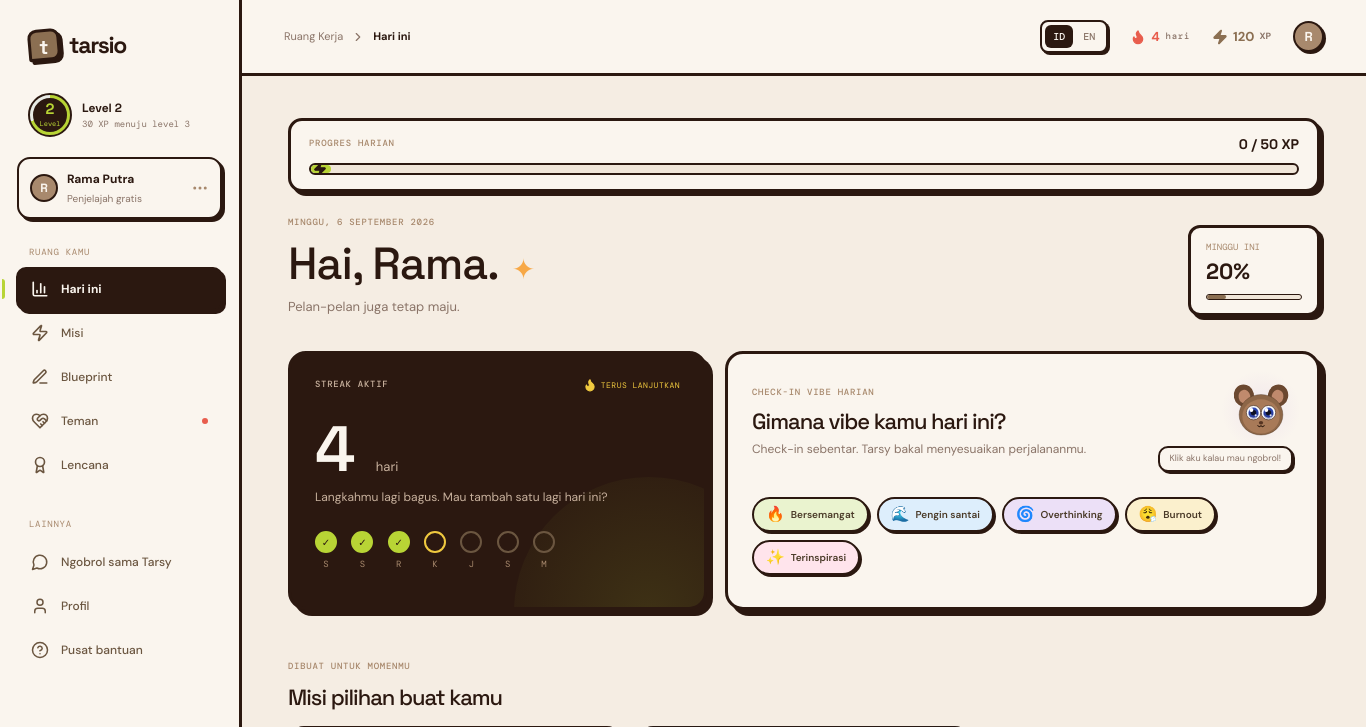
Scenario: Dashboard › shows the referral code (first 8 chars of the user id, upper-cased) in Friends
Expected: the heading "Hai, Rama. ✦" is shown, [288, 240, 534, 286]
Click the button "Teman": click(120, 421) [16, 399, 223, 443]
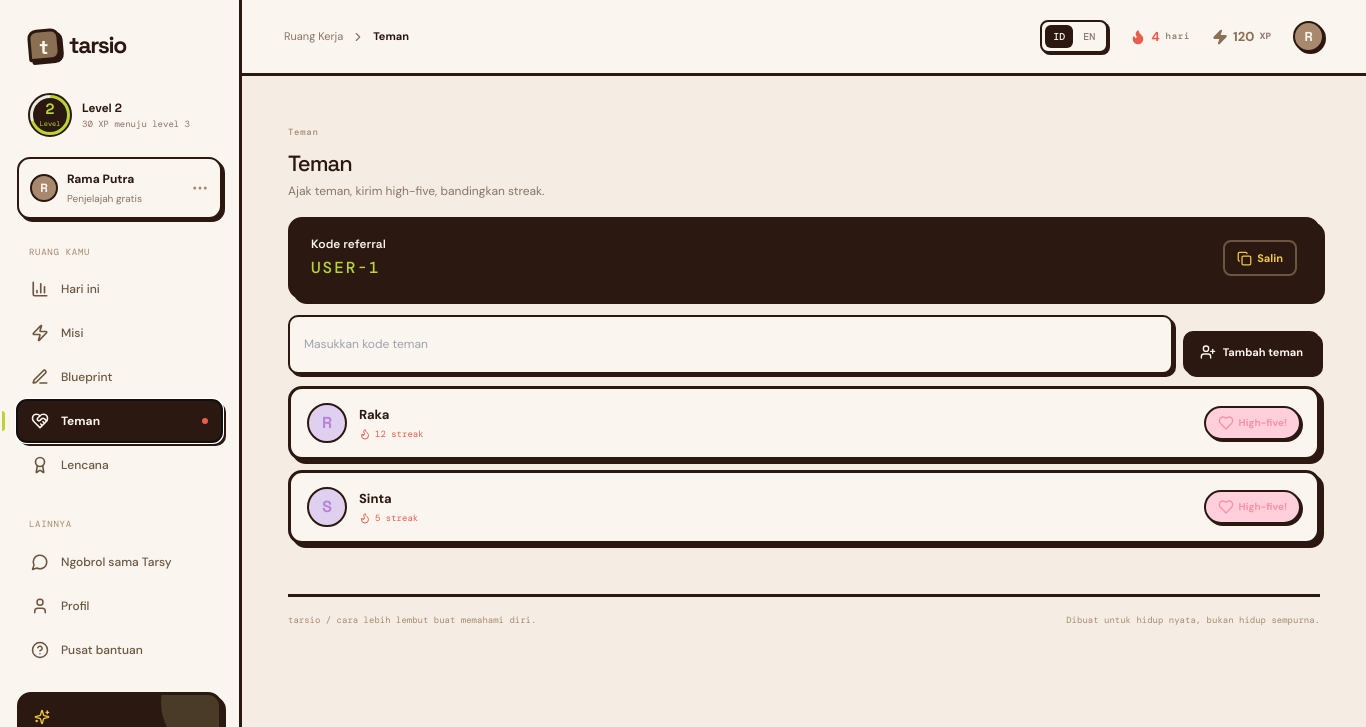
Now the text "USER-1" is shown, box [311, 257, 381, 278]
